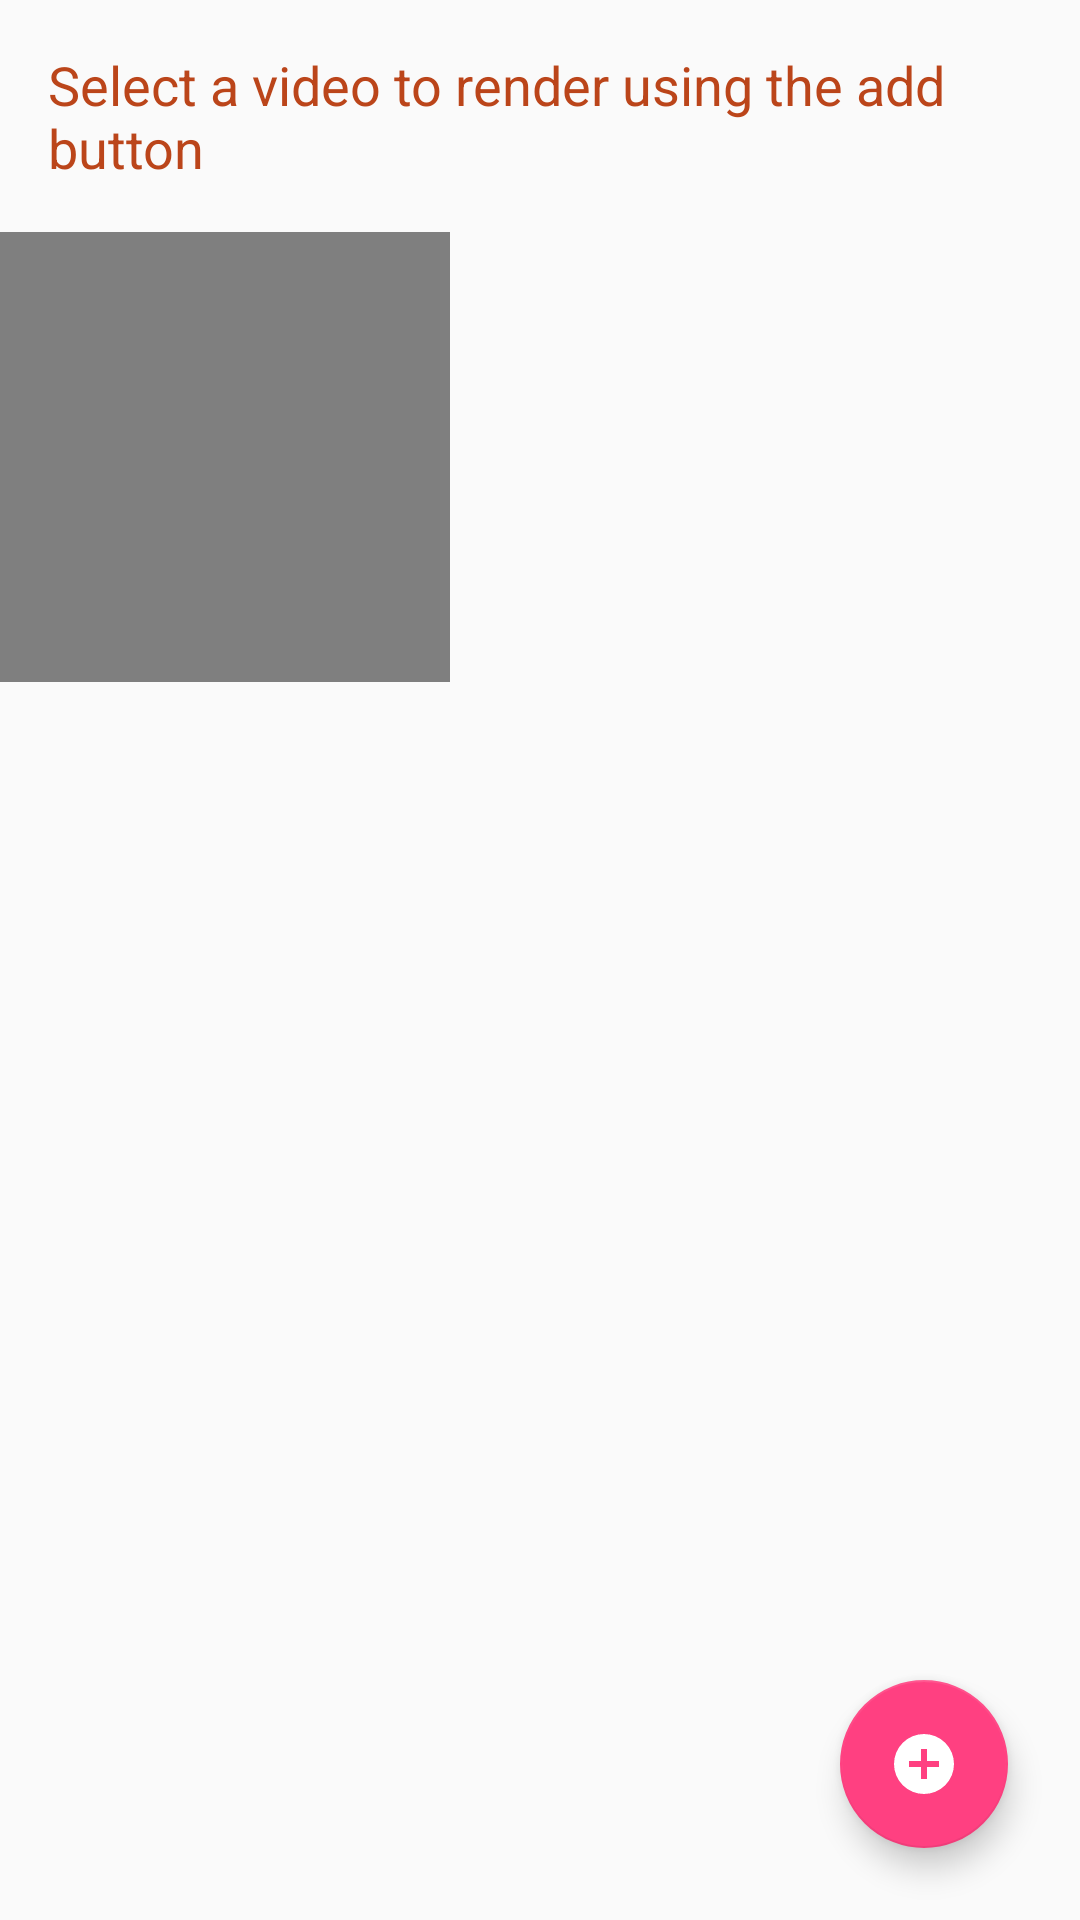

Where to tap for icons on this 1080x1920 app screen, as point (x, y):
plus circle: point (924, 1764)
